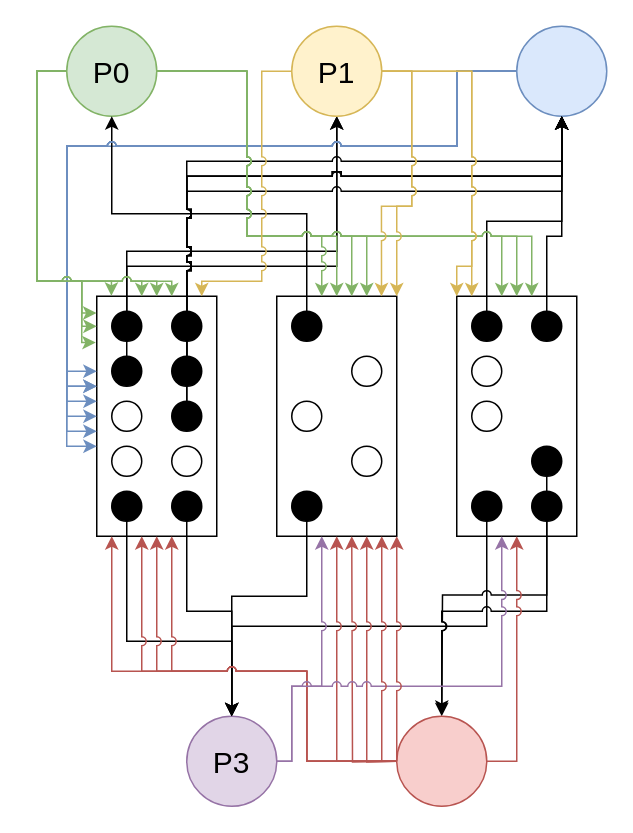
Image size: 633x833. Some labels were removed from this diagram. Here are the shapes that lost their labels. From the top down, the centre of each, then its label:
At (561,70): "P2".
At (441,760): "P4".
